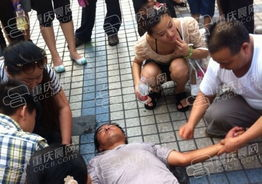10+: (1, 1, 260, 183)
down: (65, 114, 247, 184)
